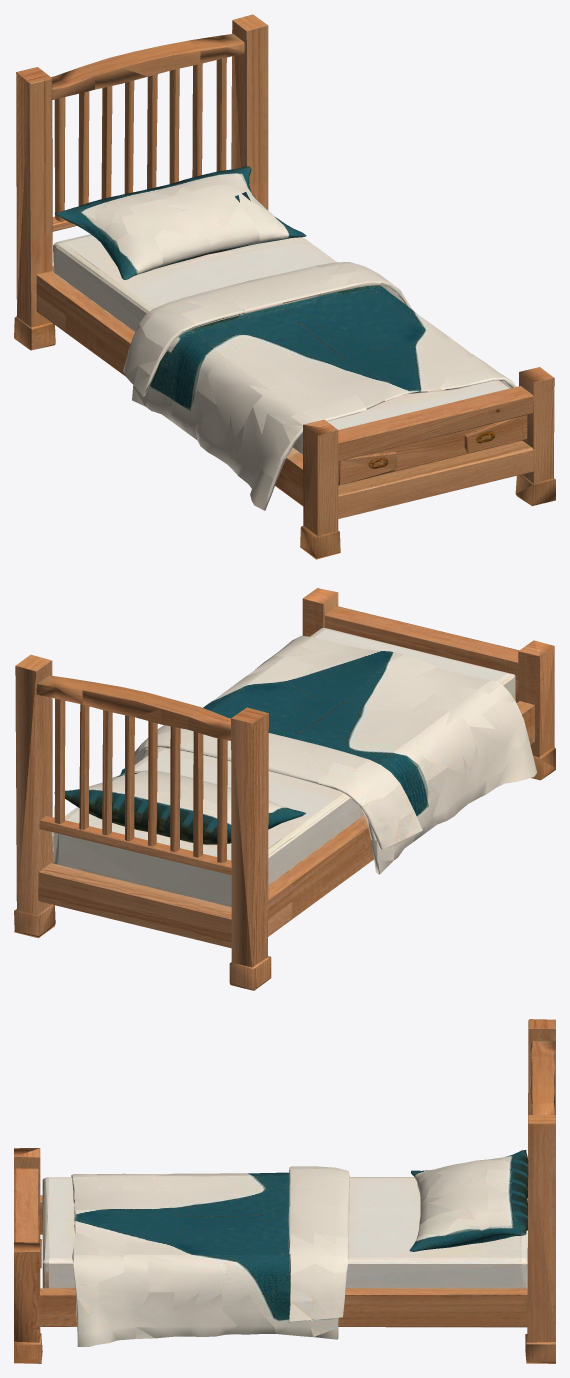
File: bed.glb
3 renders of one model, top to bottom at view 1: azimuth 30°, elevation 25°; view 2: azimuth 150°, elevation 25°; view 3: azimuth 270°, elevation 25°, orthographic. The views are drawn at different scales.
Size of the model in its own units: 1.1 by 1 by 2.05.
1 material, 1 textured.
